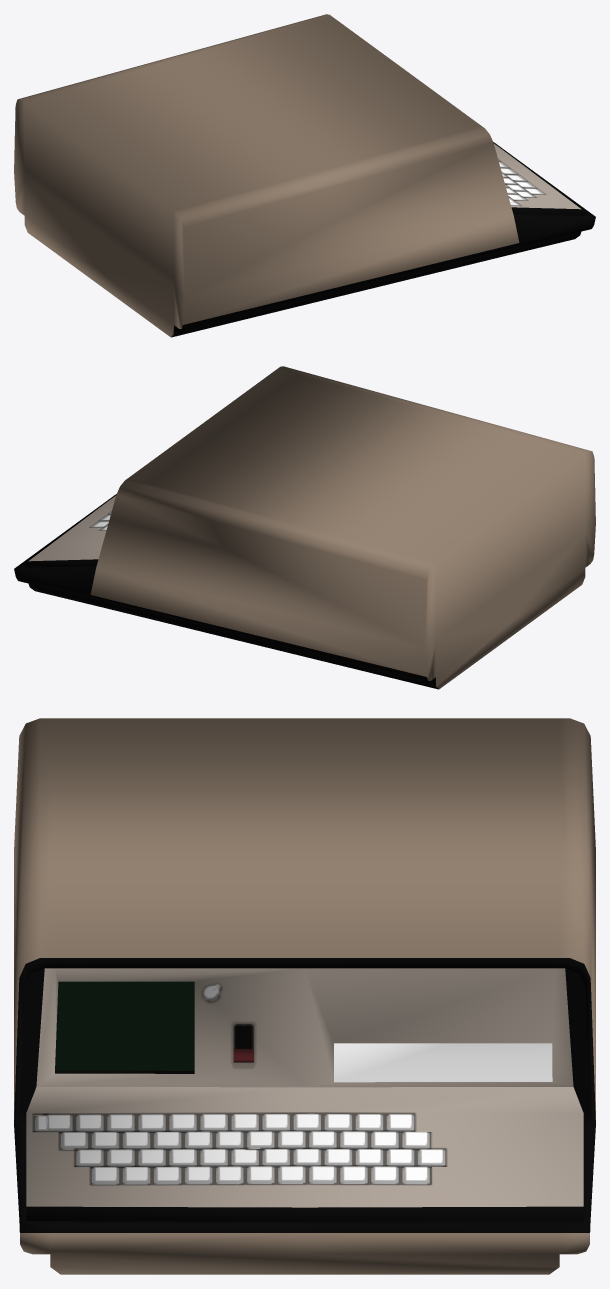
Rendered from KBMTerminal.fbx.
3 views of the same model, one above another, from view 1: azimuth 30°, elevation 25°; view 2: azimuth 150°, elevation 25°; view 3: azimuth 270°, elevation 25° (orthographic). The views are drawn at different scales.
Visible parts, largest first — view 1: Textures; view 2: Textures; view 3: Textures.
Boxes of the visible parts, x1,y1,x2,y2 form: Textures: (14,14,595,337); Textures: (14,366,595,689); Textures: (14,718,595,1274).
Size of the model in its own units: 1342 by 431 by 960.
